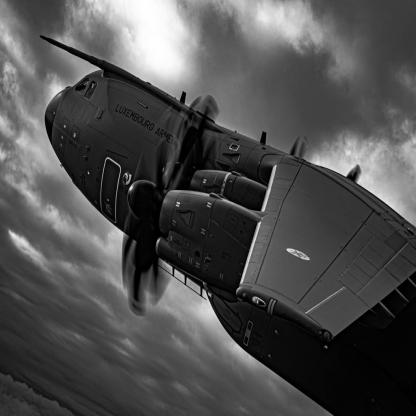A400M: (40, 36, 416, 416)
